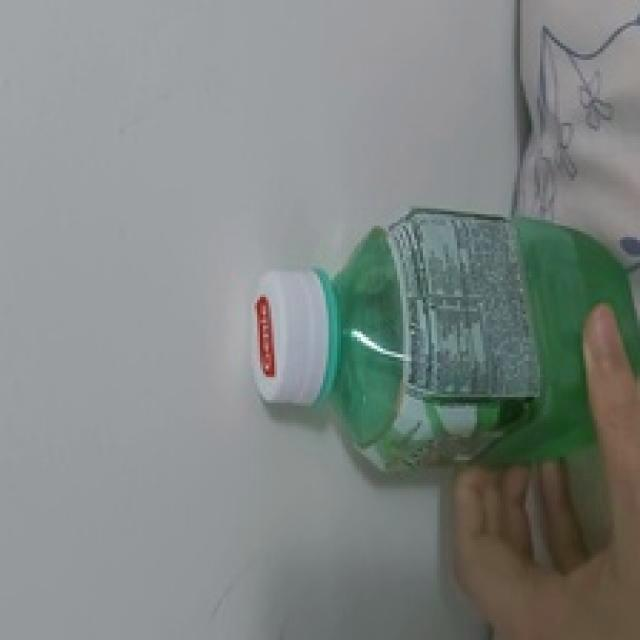bottle: (250, 205, 640, 475)
